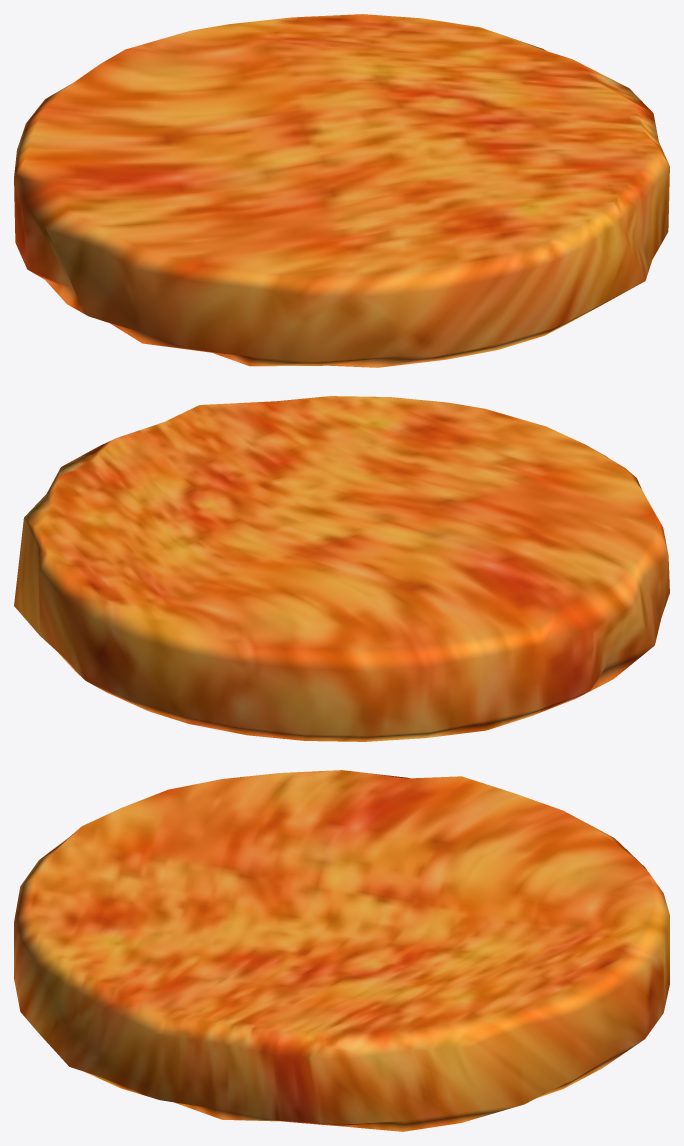
The model's file is FishPattyCooked.fbx.
3 renders of one model, top to bottom at view 1: azimuth 30°, elevation 25°; view 2: azimuth 150°, elevation 25°; view 3: azimuth 270°, elevation 25°, orthographic. The views are drawn at different scales.
Parts seen in each view (by area): view 1: FishPattyCooked; view 2: FishPattyCooked; view 3: FishPattyCooked.
Part boxes in pixels (<box>): FishPattyCooked: <box>14,14,669,367</box>; FishPattyCooked: <box>14,396,669,741</box>; FishPattyCooked: <box>14,770,669,1131</box>.
Bounding box in the file's own units: 520 × 78.65 × 502.
